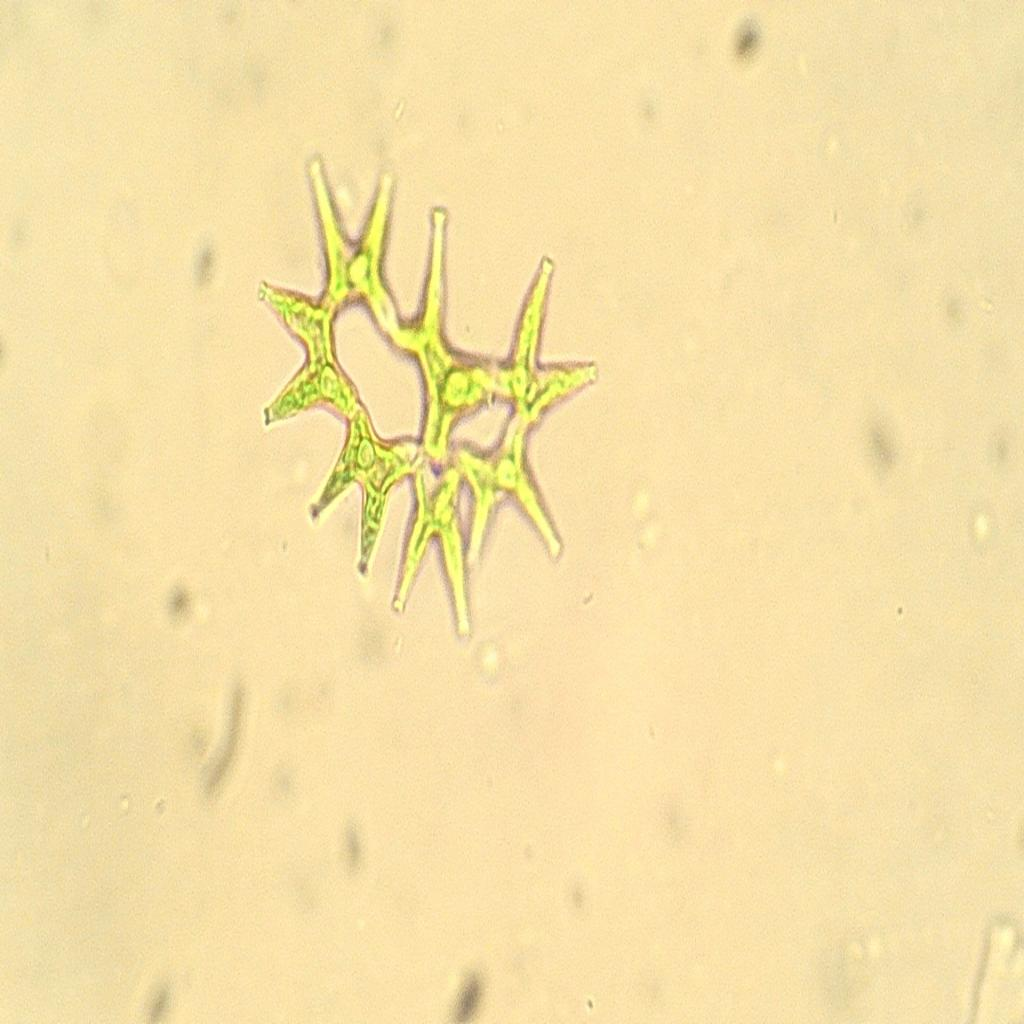Pediastrum_CFI: (238, 140, 610, 657)
